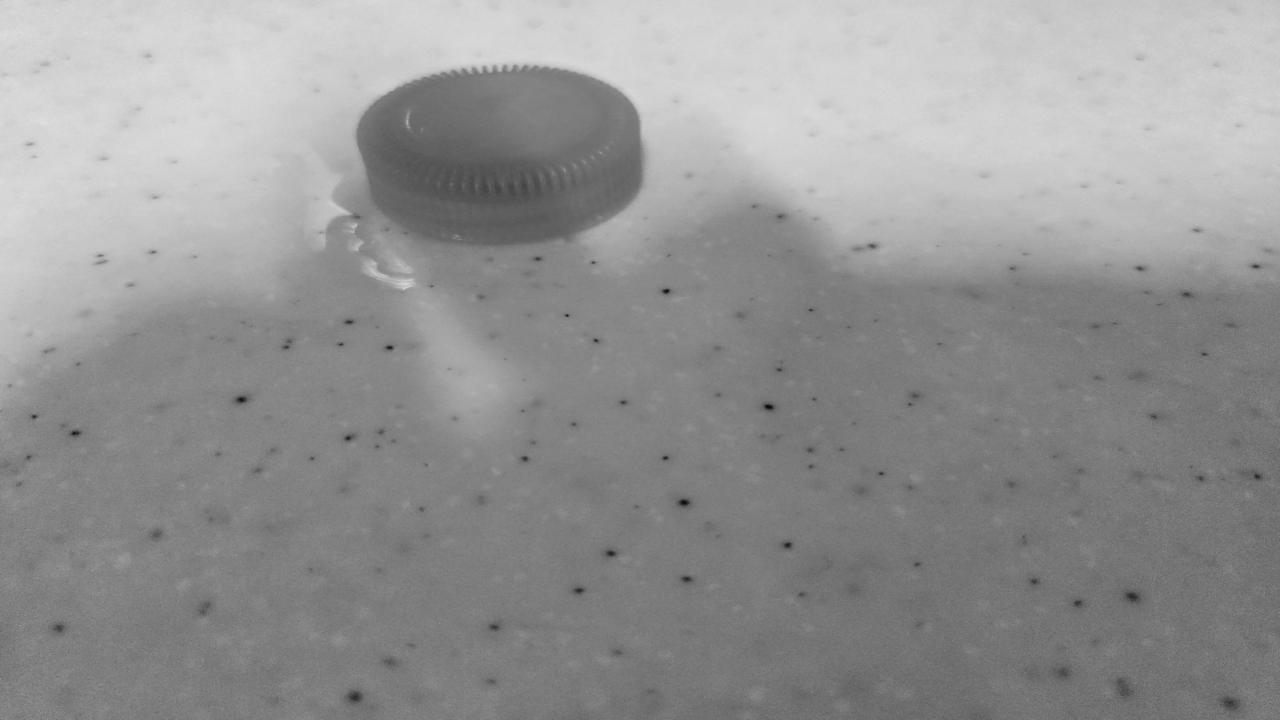bottle_cap: (364, 72, 641, 242)
